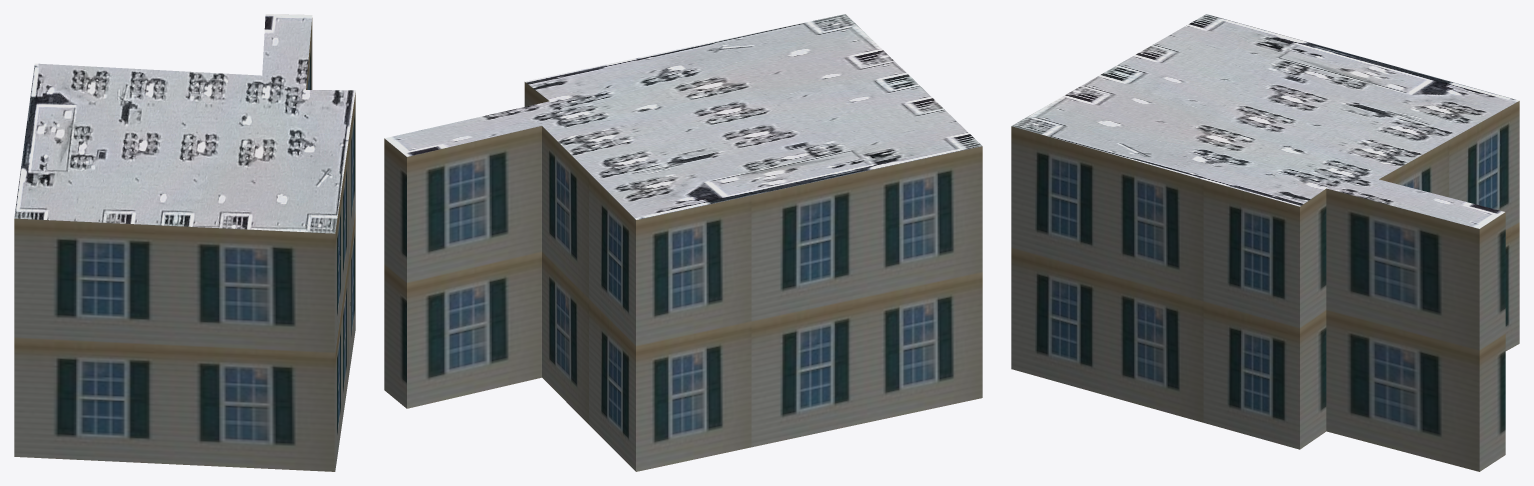
File: ResTex__4391.fbx
The picture shows the model from 3 angles, left to right: view 1: azimuth 30°, elevation 25°; view 2: azimuth 150°, elevation 25°; view 3: azimuth 270°, elevation 25°; orthographic projection. The views are drawn at different scales.
Parts seen in each view (by area): view 1: CityEngineMaterial_7_m, CityEngineMaterial_4_m; view 2: CityEngineMaterial_7_m, CityEngineMaterial_4_m; view 3: CityEngineMaterial_7_m, CityEngineMaterial_4_m.
Part boxes in pixels (x1,y1,x2,y2): CityEngineMaterial_7_m: [14, 18, 355, 471]; CityEngineMaterial_4_m: [14, 14, 355, 233]; CityEngineMaterial_7_m: [384, 82, 982, 471]; CityEngineMaterial_4_m: [385, 14, 982, 219]; CityEngineMaterial_7_m: [1011, 101, 1519, 471]; CityEngineMaterial_4_m: [1011, 14, 1518, 228].
Bounding box in the file's own units: 11.38 × 6 × 11.38.
Materials: 2 (2 with a texture image).
